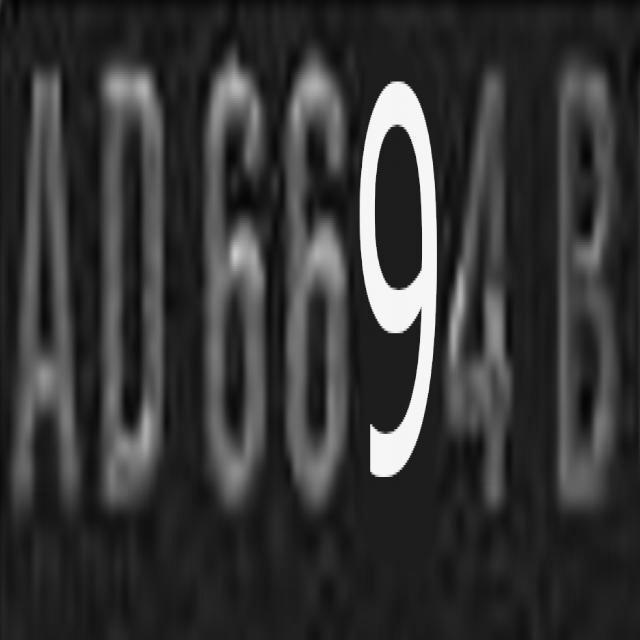4: (440, 61, 520, 520)
6: (200, 61, 272, 508), (283, 53, 353, 499)
9: (366, 70, 432, 502)
A: (3, 48, 92, 541)
B: (530, 55, 640, 523)
D: (93, 62, 180, 526)
